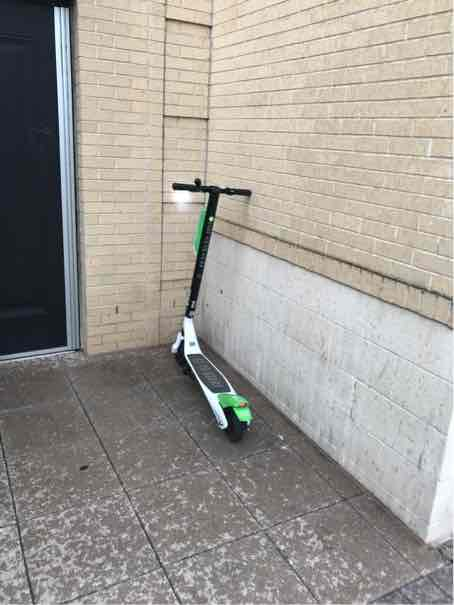scooter: (156, 167, 264, 445)
